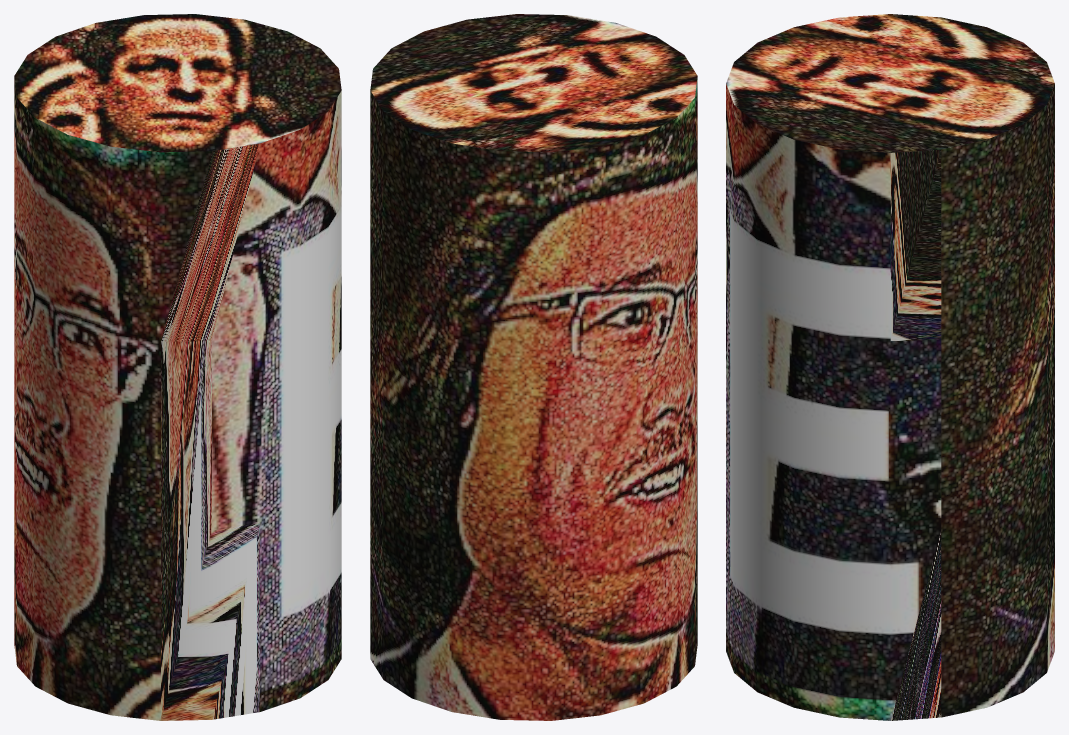
The model's file is eCandle.fbx.
The picture shows the model from 3 angles, left to right: view 1: azimuth 30°, elevation 25°; view 2: azimuth 150°, elevation 25°; view 3: azimuth 270°, elevation 25°; orthographic projection.
Parts seen in each view (by area): view 1: pCylinder1; view 2: pCylinder1; view 3: pCylinder1.
Boxes of the visible parts, <box> form: pCylinder1: <box>14,14,341,720</box>; pCylinder1: <box>370,14,697,720</box>; pCylinder1: <box>726,14,1054,720</box>.
Size of the model in its own units: 2 by 3.81 by 2.
Materials: 1 (1 with a texture image).
